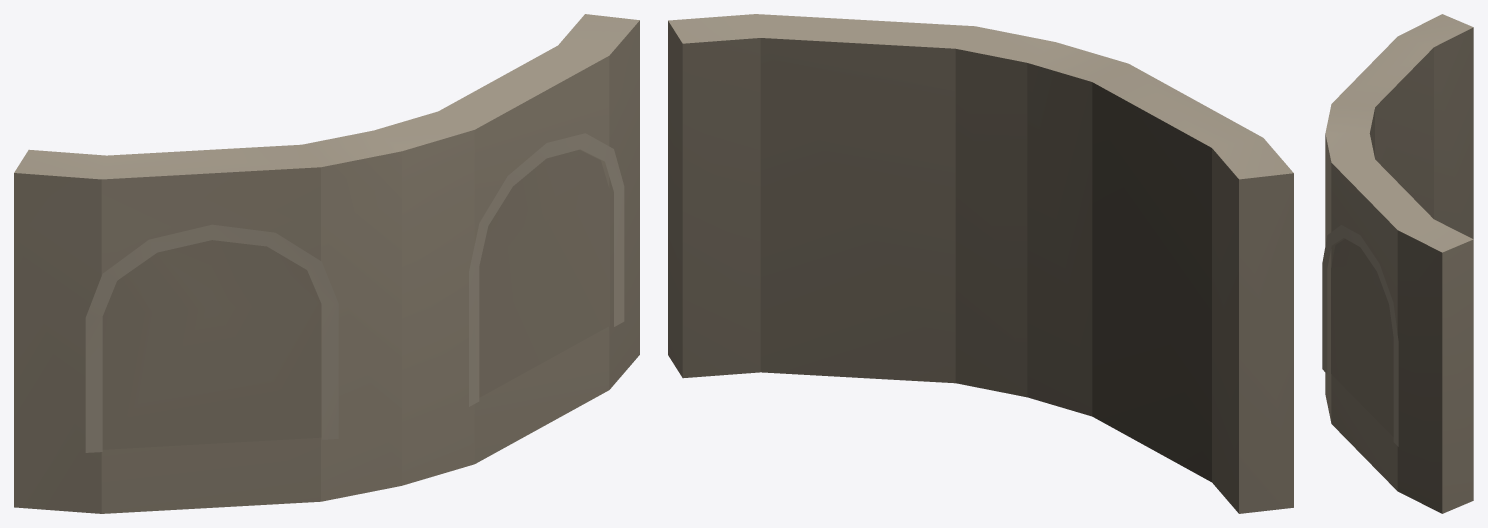
Rendered from dome.drum_solid.stone.glb.
3 renders of one model, left to right at view 1: azimuth 30°, elevation 25°; view 2: azimuth 150°, elevation 25°; view 3: azimuth 270°, elevation 25°, orthographic. The views are drawn at different scales.
Parts seen in each view (by area): view 1: dome_drum_solid_stone; view 2: dome_drum_solid_stone; view 3: dome_drum_solid_stone.
Part boxes in pixels (box(x1,y1,x2,y2)): dome_drum_solid_stone: box(14, 14, 639, 513); dome_drum_solid_stone: box(668, 14, 1293, 513); dome_drum_solid_stone: box(1322, 14, 1473, 513).
Size of what is drawn, in the model's own units: 5.09 by 2.6 by 1.37.
